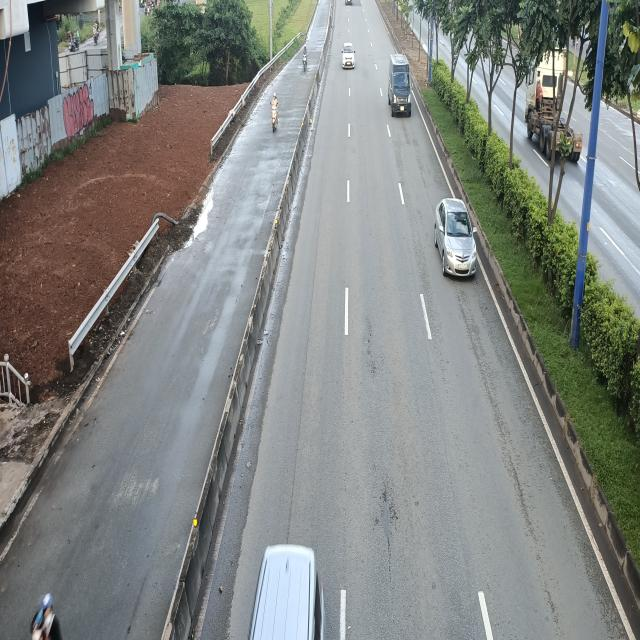car: (433, 200, 476, 280), (342, 44, 356, 70)
van: (387, 52, 413, 116)
